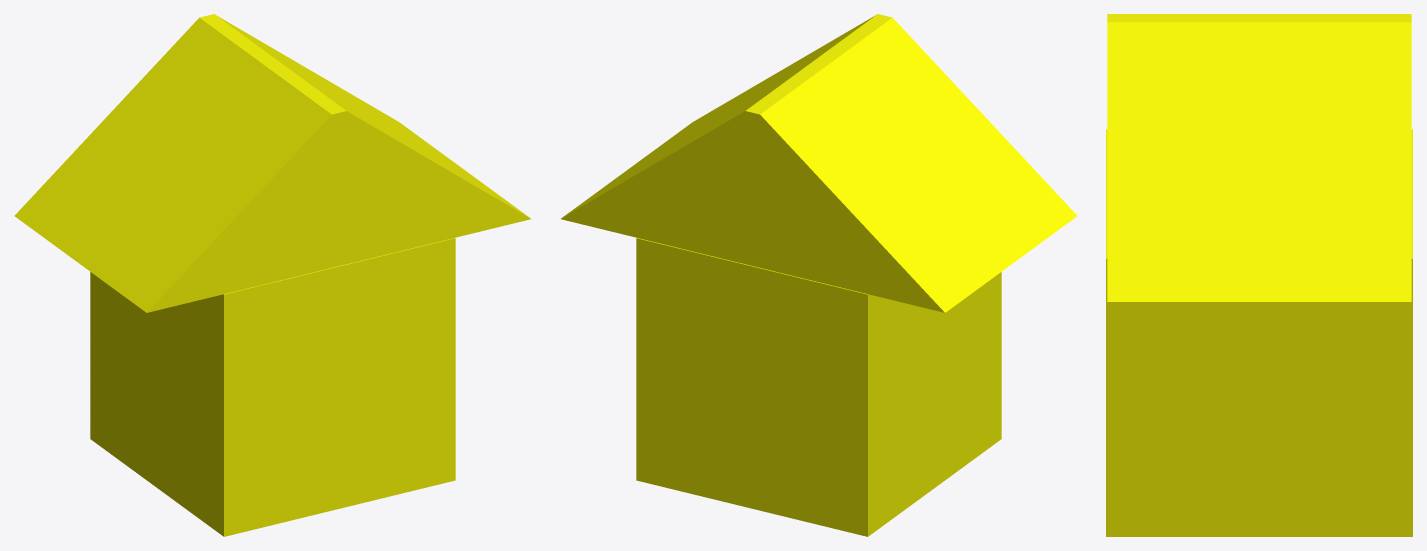
File: yazirusi.FBX
3 views of the same model, side by side, from view 1: azimuth 30°, elevation 25°; view 2: azimuth 150°, elevation 25°; view 3: azimuth 270°, elevation 25° (orthographic). The views are drawn at different scales.
Parts seen in each view (by area): view 1: Box001, Box002; view 2: Box001, Box002; view 3: Box002, Box001.
Part boxes in pixels (left/top/right/bottom): Box001: left=90, top=238, right=455, bottom=536; Box002: left=14, top=14, right=530, bottom=312; Box001: left=636, top=238, right=1001, bottom=536; Box002: left=561, top=14, right=1077, bottom=312; Box002: left=1107, top=14, right=1411, bottom=301; Box001: left=1106, top=129, right=1412, bottom=536.
Bounding box in the file's own units: 1.66 × 1 × 1.63.
